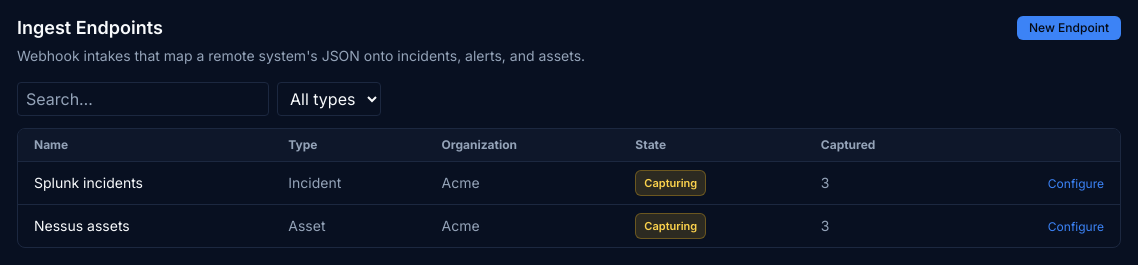
IngestEndpoints › lists endpoints and filters by search
Expected: the text "Splunk incidents" is shown, [18,162,272,204]
Type "nessus" into the field named "Search endpoints". click: coordinates (143, 99)
box: [17,82,269,116]
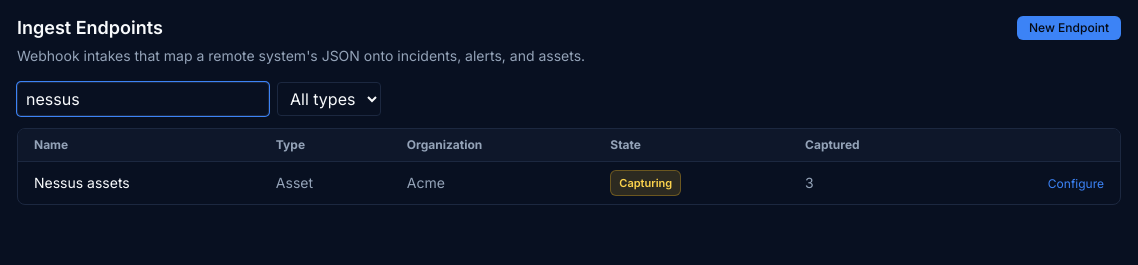
Expected: the text "Nessus assets" is shown, [18,162,260,204]
Result: the text "Splunk incidents" is gone
